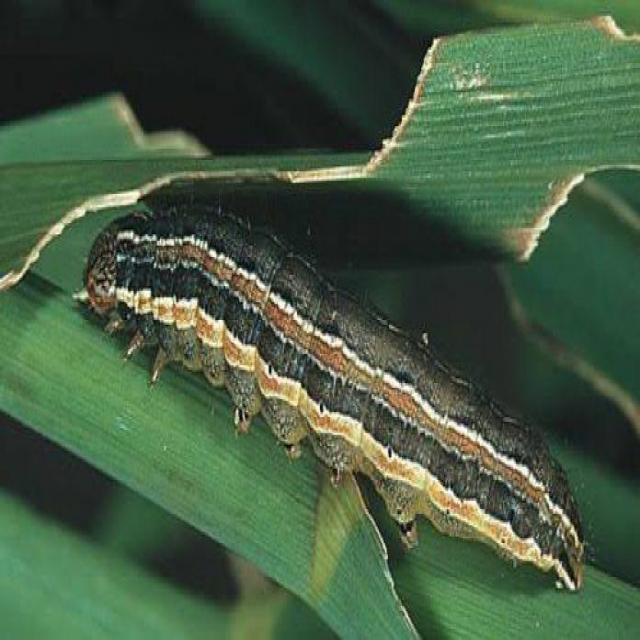armyworm: (66, 194, 599, 606)
